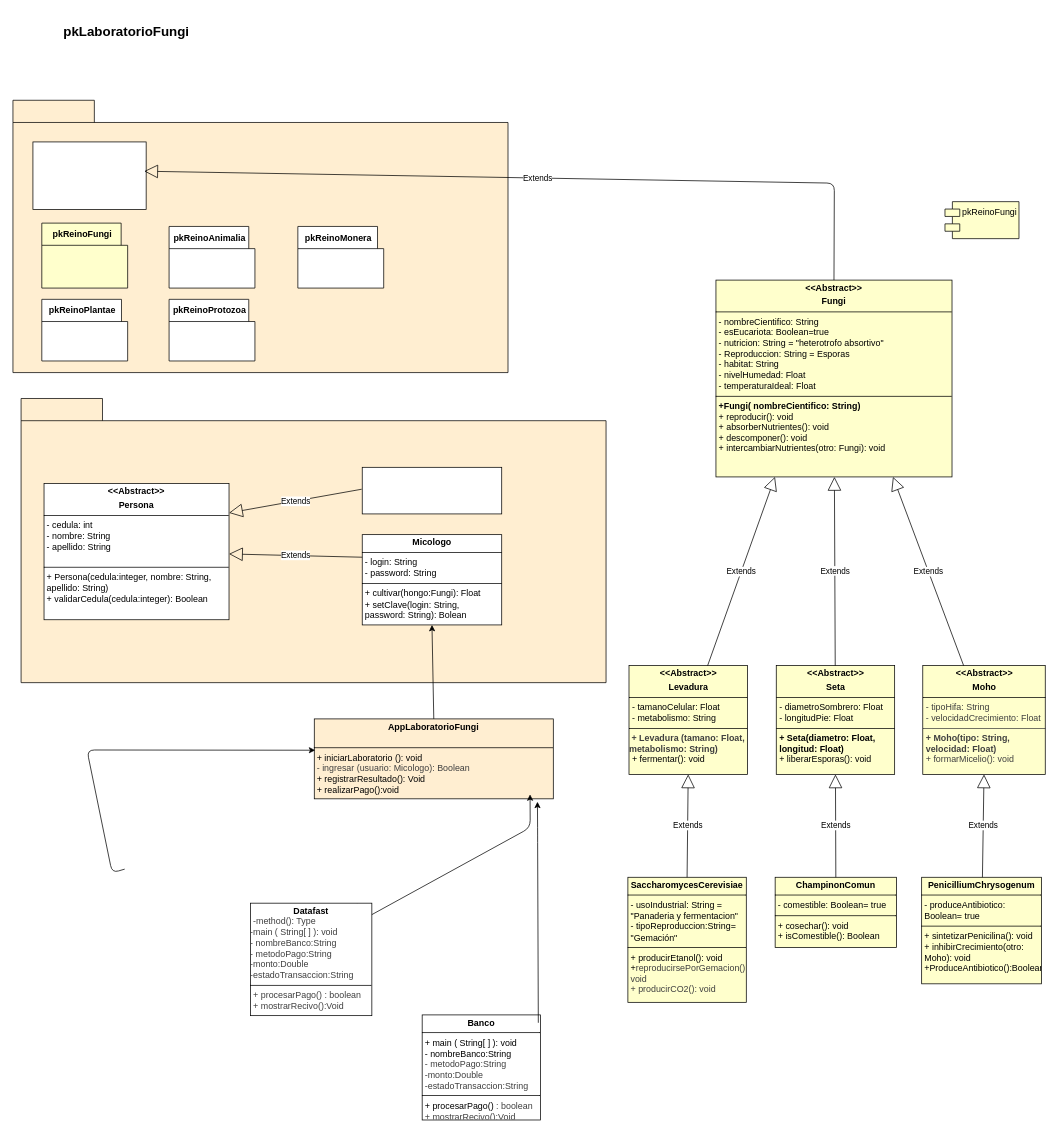
The diagram is 1058 pixels wide and 1134 high, and some of its shapes have lost their labels. Here are the shapes that lost their labels. From the top down, the box of each, then its label:
(32, 141, 146, 209): <<Abstract>> ReinoAnimal - estaVivo: Boolean = true
(12, 100, 508, 373): pkSerViviente
(361, 467, 502, 514): Recolector
(20, 398, 606, 683): pkHumano
